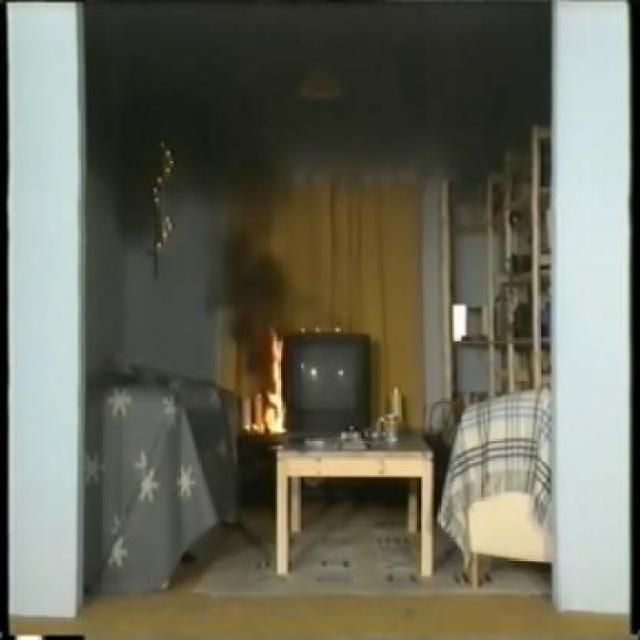smoke: (191, 151, 291, 352), (262, 322, 290, 438)
